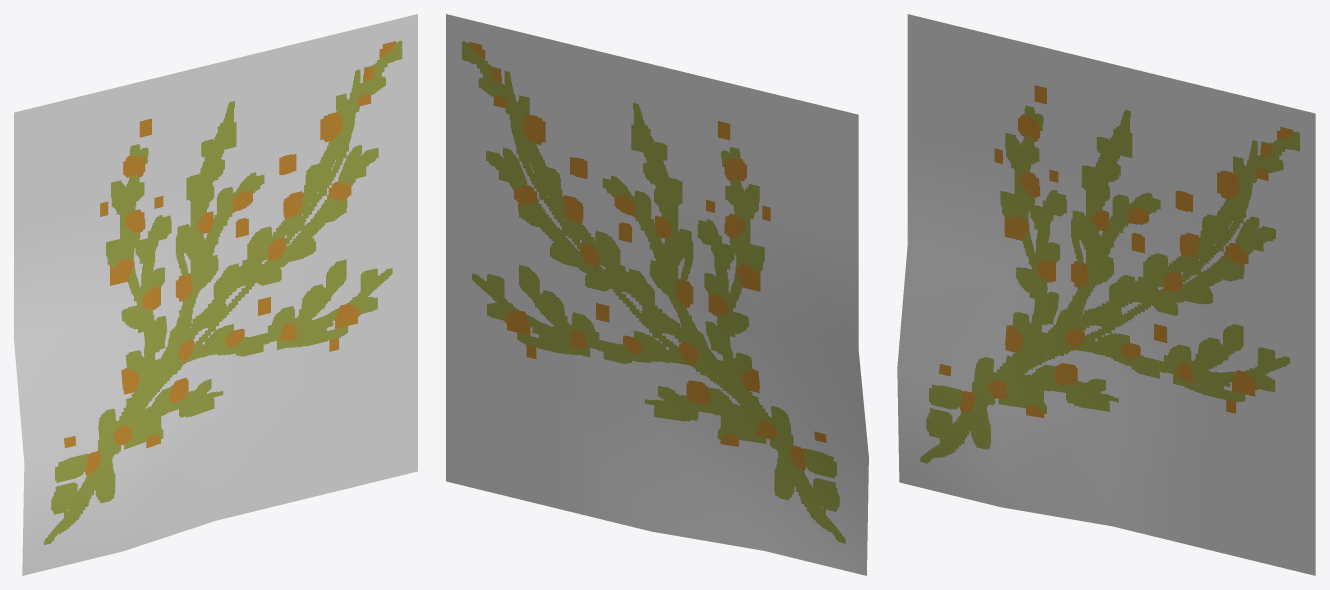
Rendered from Flower 1 a.FBX.
The picture shows the model from 3 angles, left to right: view 1: azimuth 30°, elevation 25°; view 2: azimuth 150°, elevation 25°; view 3: azimuth 330°, elevation 25°; orthographic projection. The views are drawn at different scales.
Parts seen in each view (by area): view 1: Plane010; view 2: Plane010; view 3: Plane010.
Boxes of the visible parts, x1,y1,x2,y2 form: Plane010: [14, 14, 417, 575]; Plane010: [446, 14, 868, 575]; Plane010: [897, 14, 1315, 575].
Size of the model in its own units: 17.61 by 19.07 by 0.7705.
